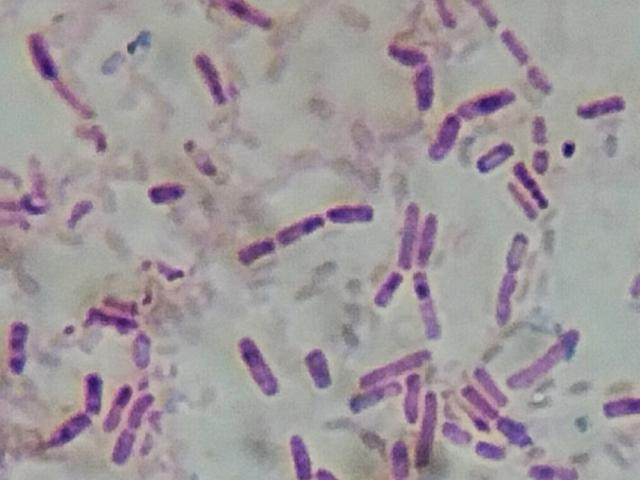E. coli: (509, 328, 581, 391), (240, 331, 290, 400), (389, 38, 435, 103), (572, 85, 624, 124), (196, 47, 229, 107), (276, 206, 325, 246), (361, 347, 440, 371), (514, 159, 553, 207), (187, 137, 226, 183), (224, 0, 278, 32), (418, 390, 440, 468), (28, 26, 60, 79), (45, 408, 84, 450), (7, 318, 34, 378), (349, 380, 401, 411), (478, 360, 513, 403), (465, 82, 510, 115), (128, 388, 156, 441), (532, 454, 589, 480), (417, 268, 440, 331), (499, 180, 534, 219), (415, 208, 440, 262), (283, 430, 310, 480), (82, 364, 106, 419), (494, 272, 516, 330), (475, 137, 516, 168), (434, 110, 458, 161), (237, 238, 274, 271), (374, 266, 403, 306), (146, 182, 187, 210), (67, 188, 93, 231), (400, 199, 416, 268), (87, 304, 135, 327), (502, 230, 531, 268), (503, 412, 532, 449), (500, 29, 528, 66), (330, 200, 367, 227), (129, 324, 151, 367), (113, 428, 136, 469), (308, 346, 329, 390), (473, 0, 503, 30), (434, 1, 460, 35), (464, 386, 490, 419), (408, 372, 424, 423), (390, 438, 409, 477), (474, 439, 504, 463), (529, 66, 551, 98), (529, 115, 551, 141), (448, 415, 464, 447), (535, 146, 552, 174)
